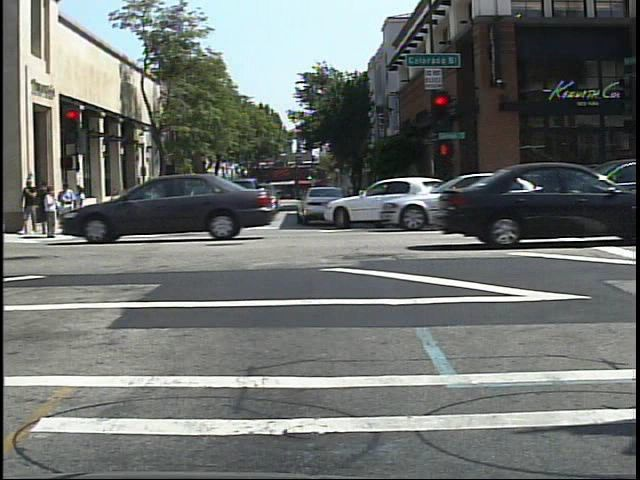person: (137, 181, 154, 221), (128, 181, 146, 217)
